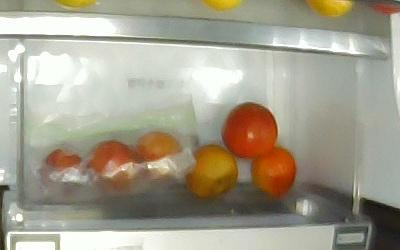prune: (219, 100, 278, 159), (181, 142, 238, 200), (250, 145, 297, 198)
prune_vinyl: (86, 139, 141, 194), (37, 145, 83, 194), (138, 131, 183, 179)
